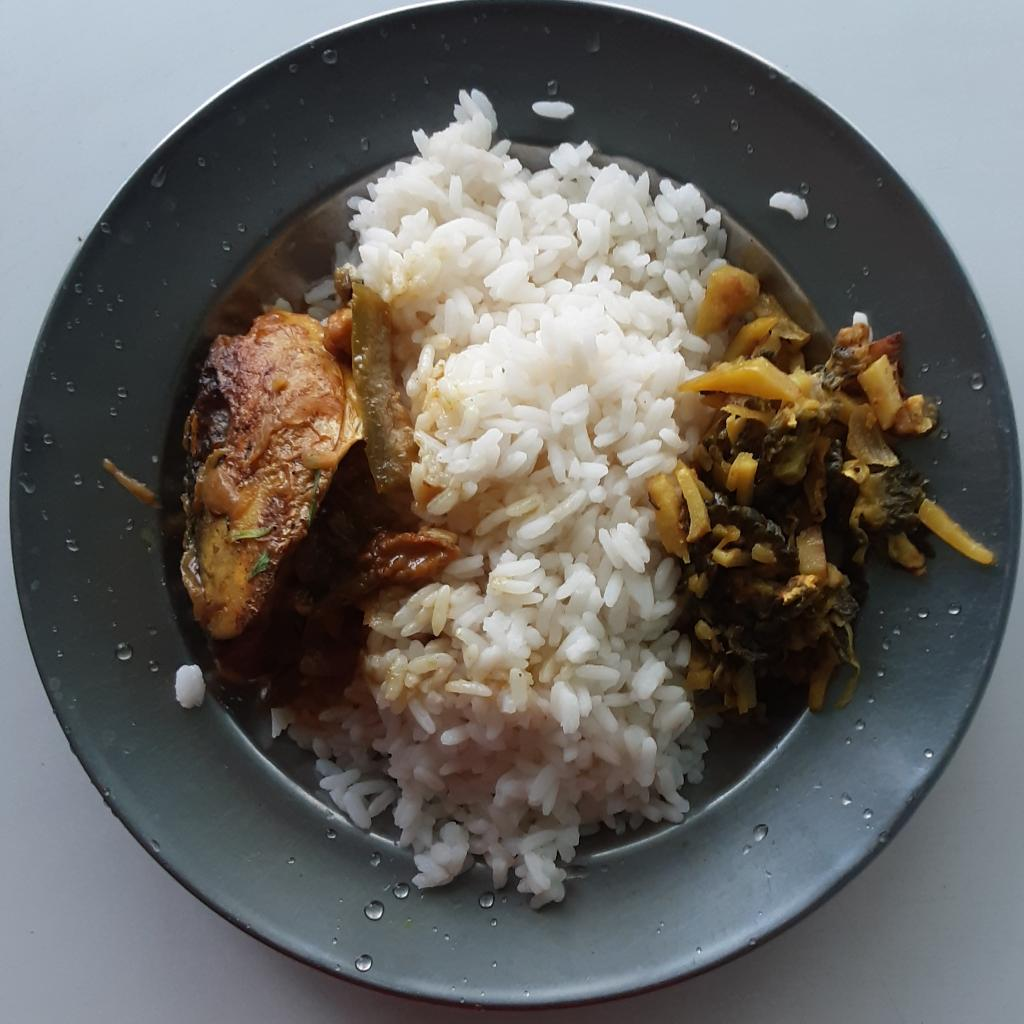fish: (182, 299, 453, 717)
korola-vaji: (654, 264, 992, 721)
rice: (264, 84, 731, 913)
